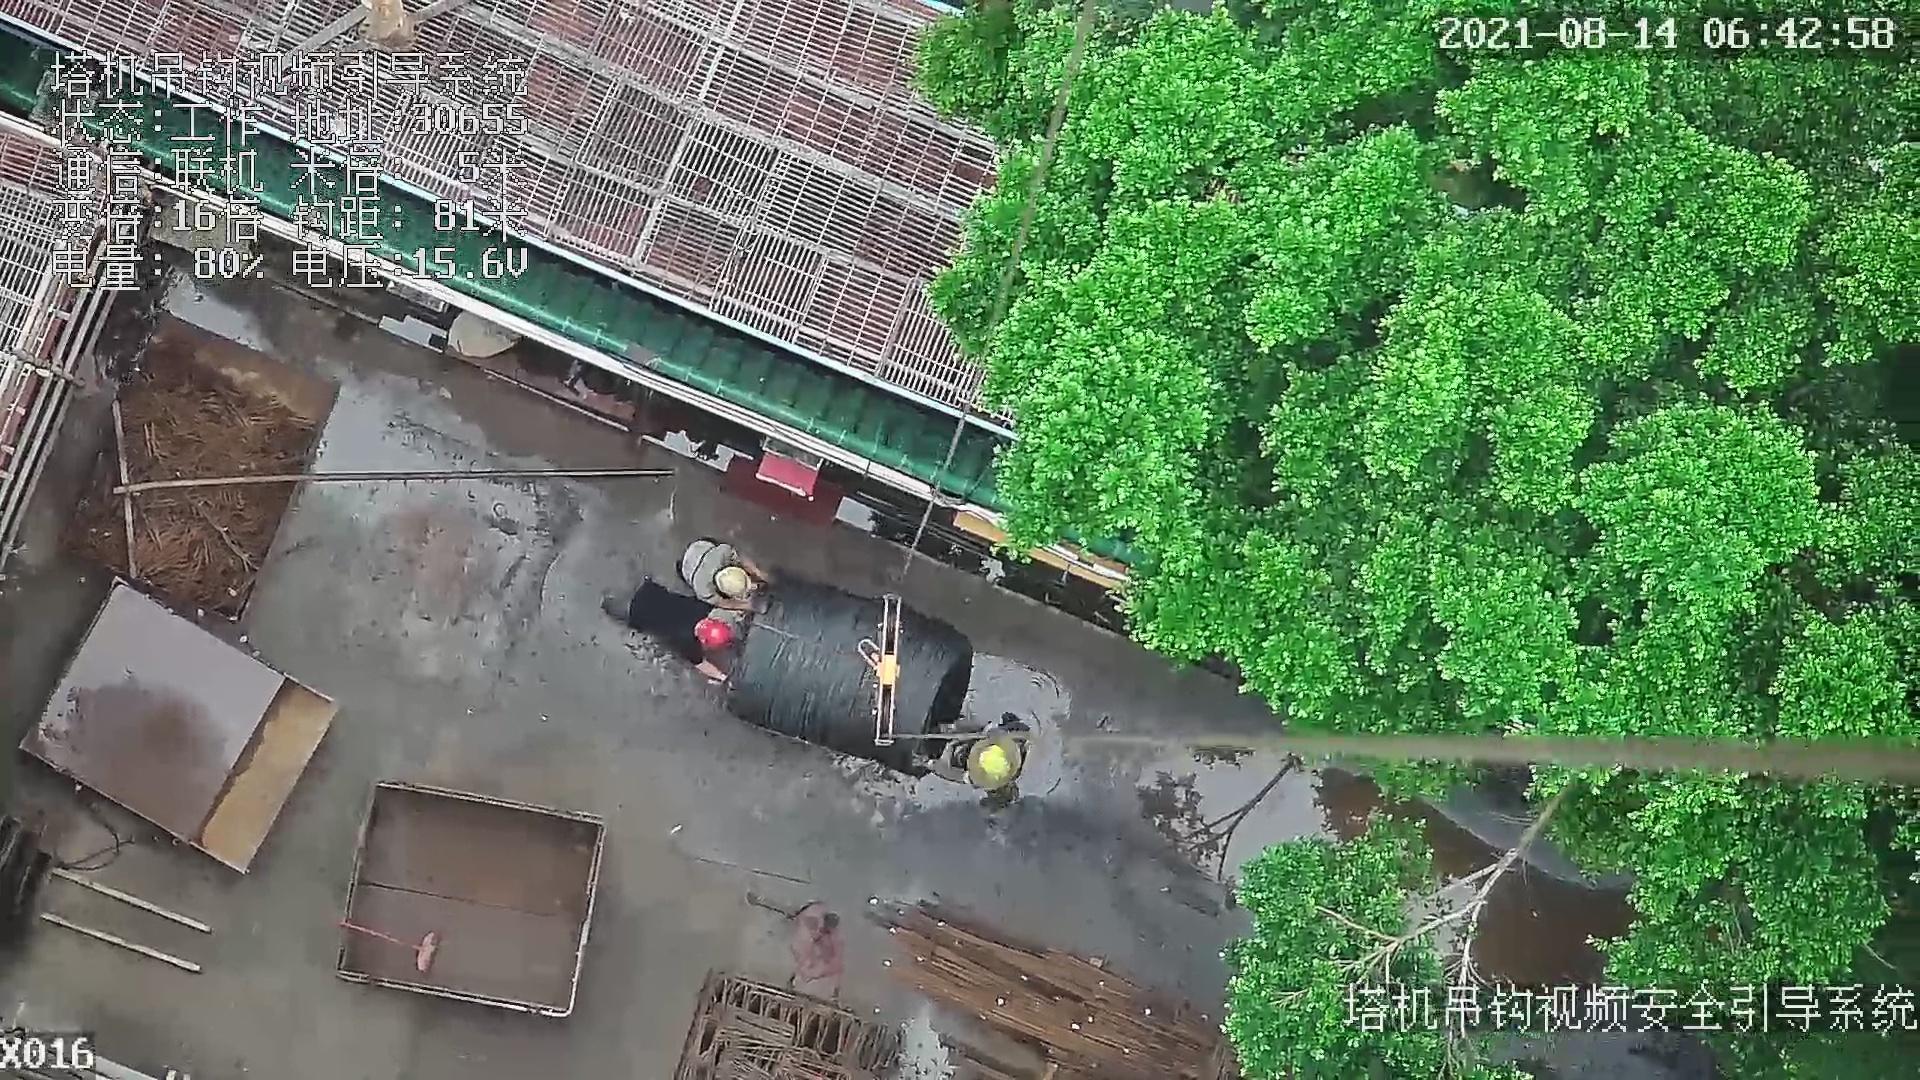helmet: (693, 611, 740, 658), (973, 739, 1018, 787), (710, 563, 755, 601)
hook: (854, 590, 908, 753)
person: (600, 583, 746, 690), (920, 703, 1029, 815), (669, 540, 774, 619)
